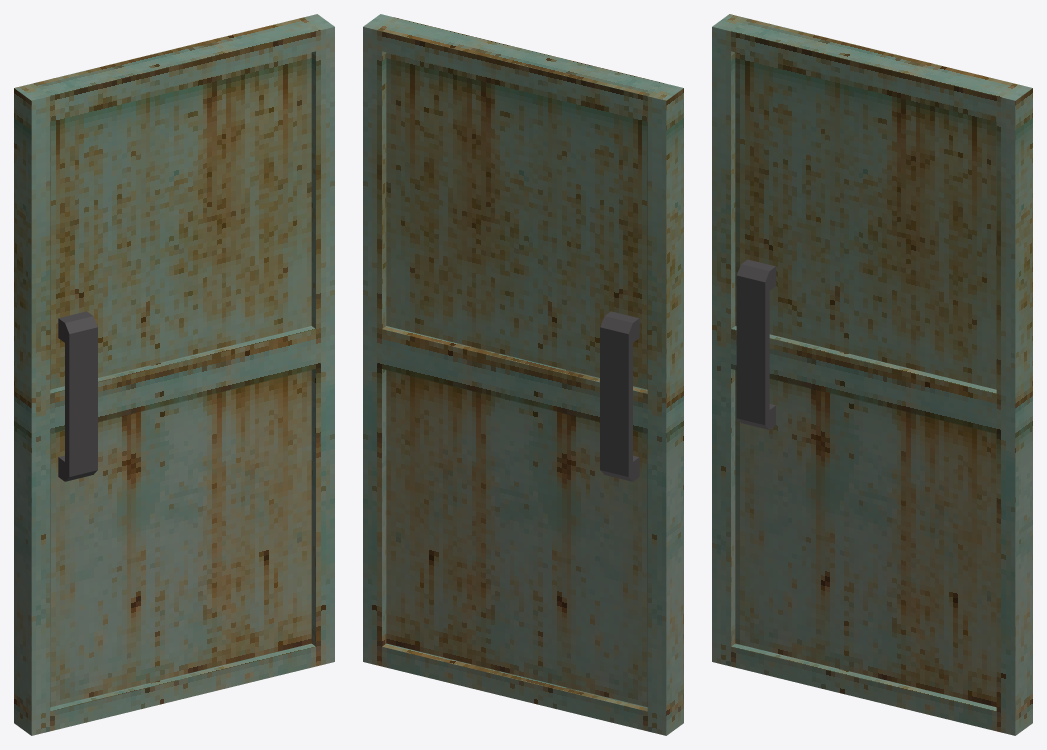
The model's file is door.glb.
3 views of the same model, side by side, from view 1: azimuth 30°, elevation 25°; view 2: azimuth 150°, elevation 25°; view 3: azimuth 330°, elevation 25° (orthographic).
Visible parts, largest first — view 1: frame, handle; view 2: frame, handle; view 3: frame, handle.
Part boxes in pixels (x1,y1,x2,y2): frame: [14, 14, 334, 735]; handle: [58, 311, 97, 481]; frame: [363, 14, 683, 735]; handle: [600, 311, 639, 481]; frame: [712, 14, 1032, 735]; handle: [736, 259, 775, 429].
Bounding box in the file's own units: 2 × 4 × 0.35.
2 materials, 1 textured.
